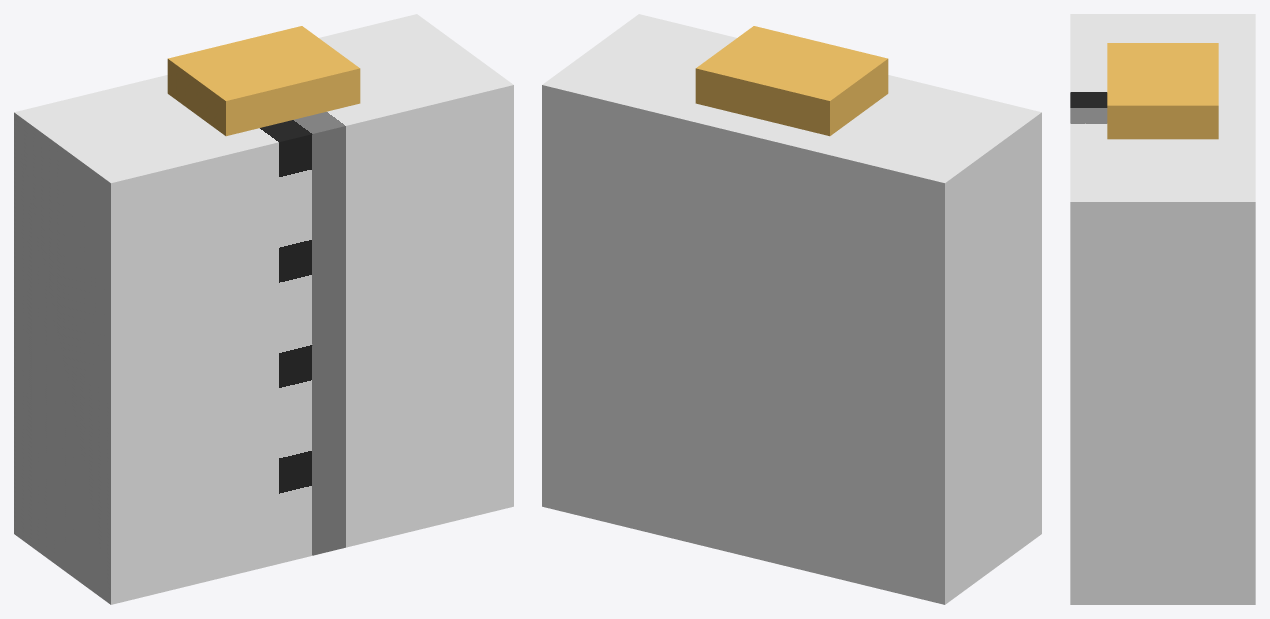
Rendered from Character_Torso.fbx.
The picture shows the model from 3 angles, left to right: view 1: azimuth 30°, elevation 25°; view 2: azimuth 150°, elevation 25°; view 3: azimuth 270°, elevation 25°; orthographic projection. The views are drawn at different scales.
Size of the model in its own units: 12 by 13 by 5.
Materials: 1 (1 with a texture image).
